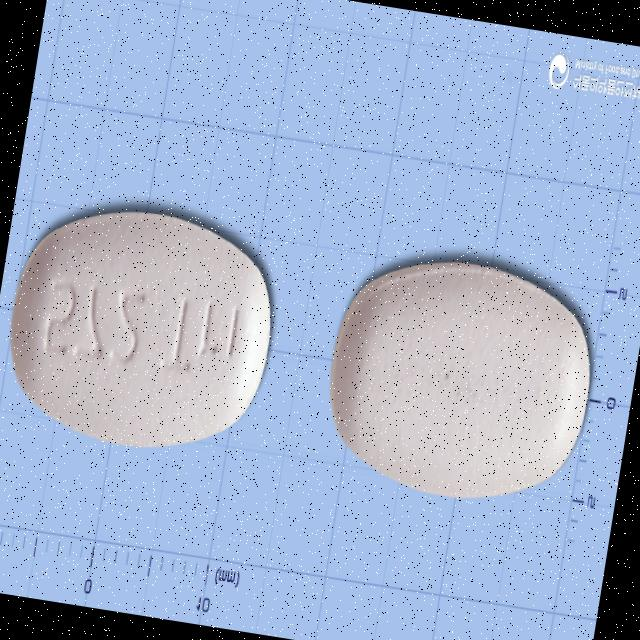Triumeq Tab: (0, 195, 287, 464)
